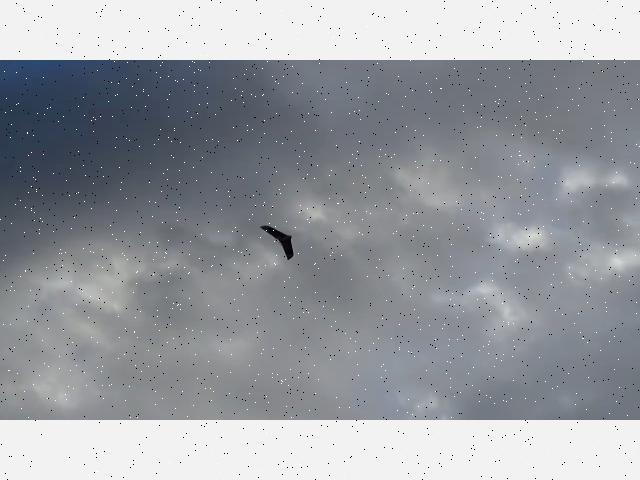Anti-Drone: (260, 224, 294, 262)
